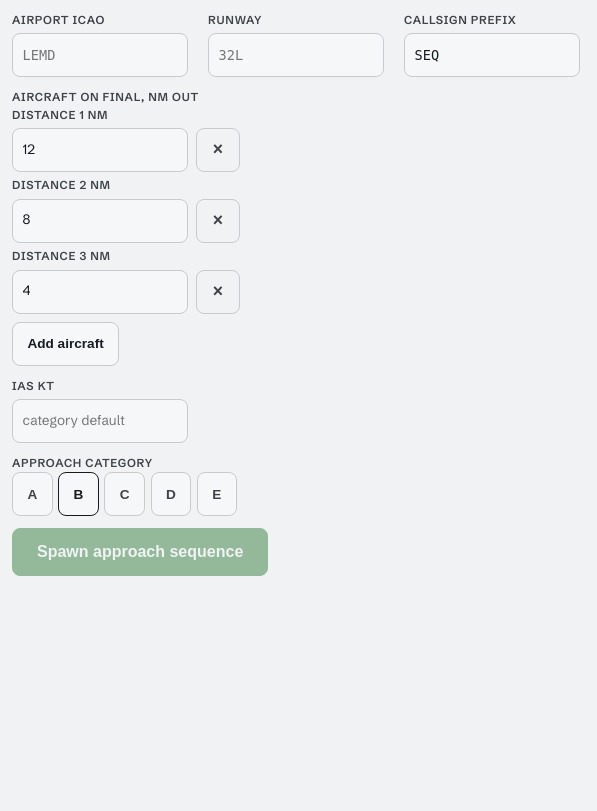
it: ApproachSequenceForm › caps the list at the request model’s eight aircraft
The image size is (597, 811).
Click the button "Add aircraft": [66, 344] box [12,322,119,366]
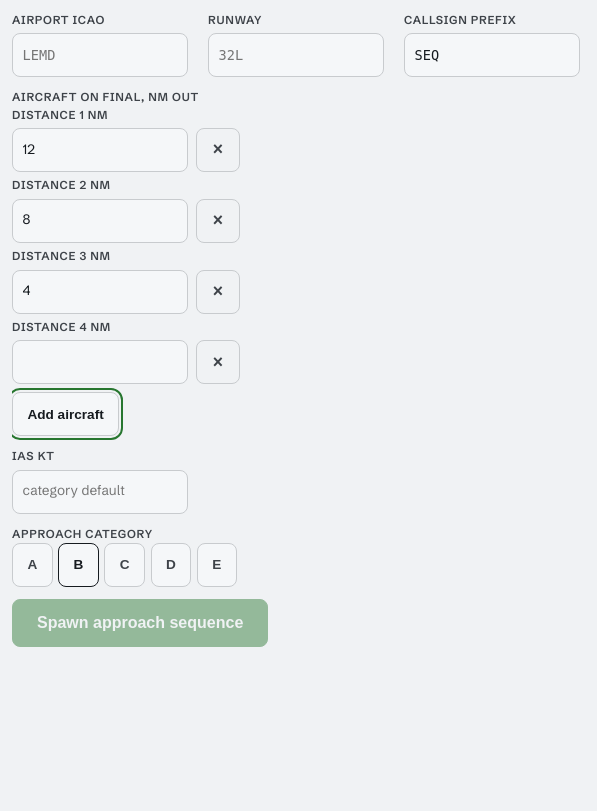
Click the button "Add aircraft": [66, 414] box [12,392,119,436]
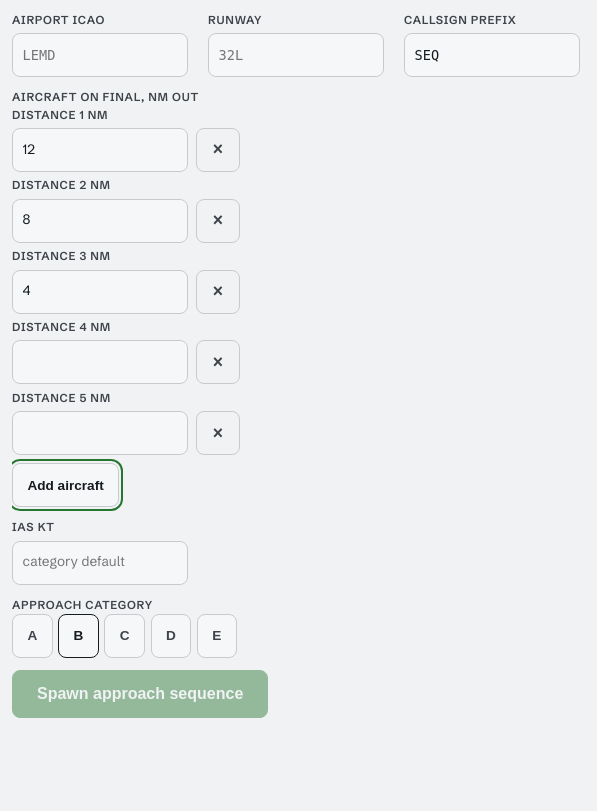
Click the button "Add aircraft": [66, 485] box [12,463,119,507]
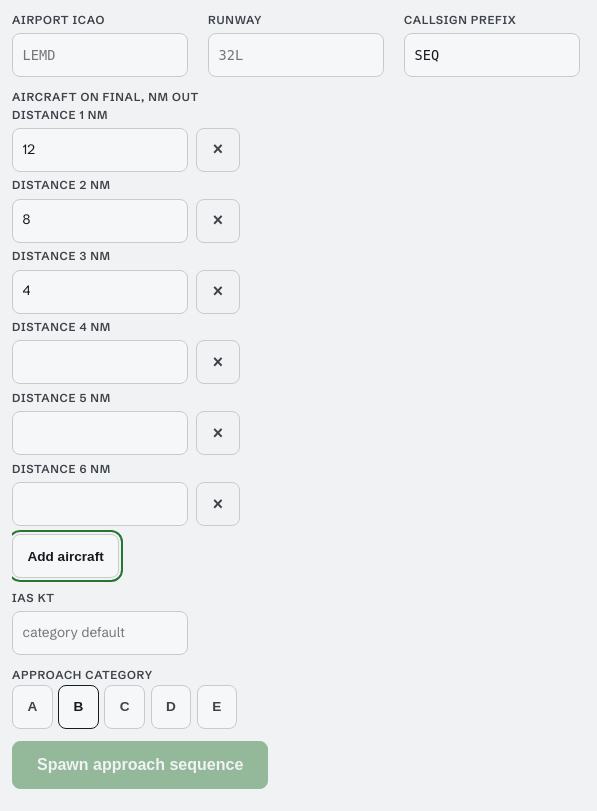
Click the button "Add aircraft": [66, 556] box [12,534,119,578]
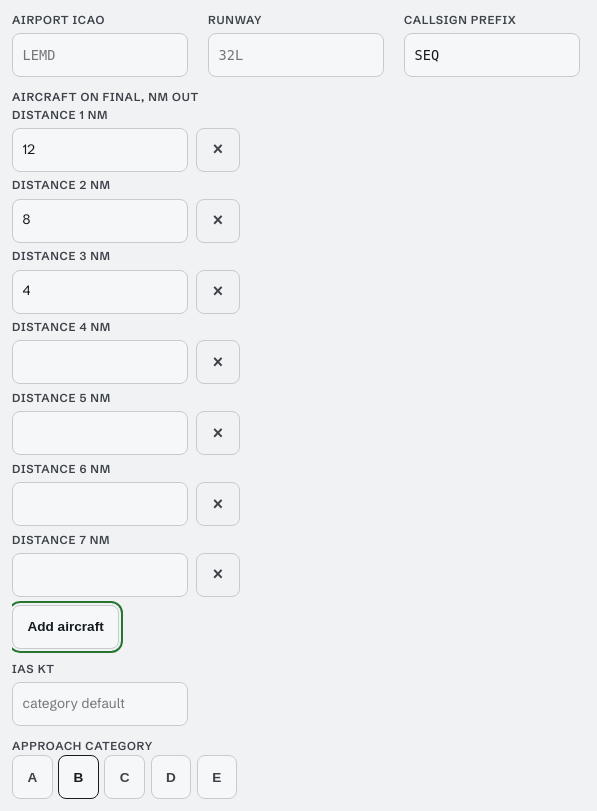
Click the button "Add aircraft": [66, 627] box [12,605,119,649]
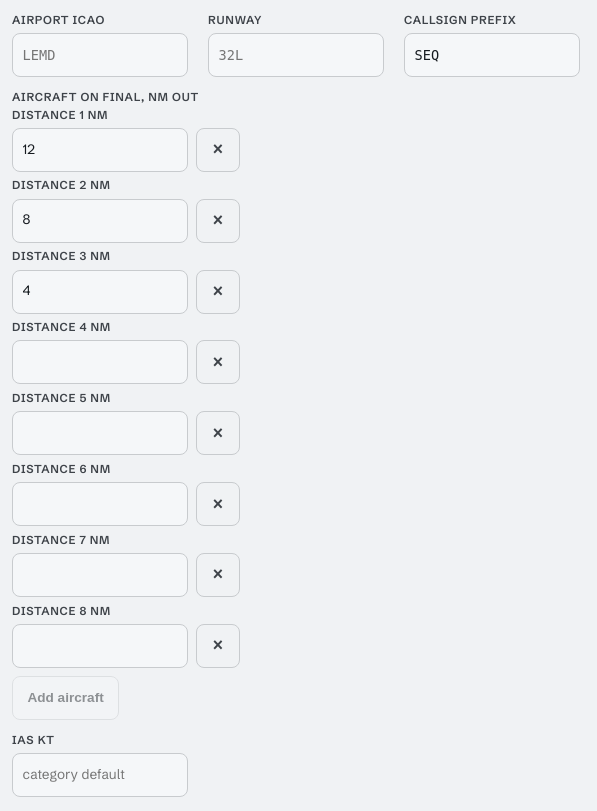
Result: the button "Add aircraft" is disabled at [12,676,119,720]
